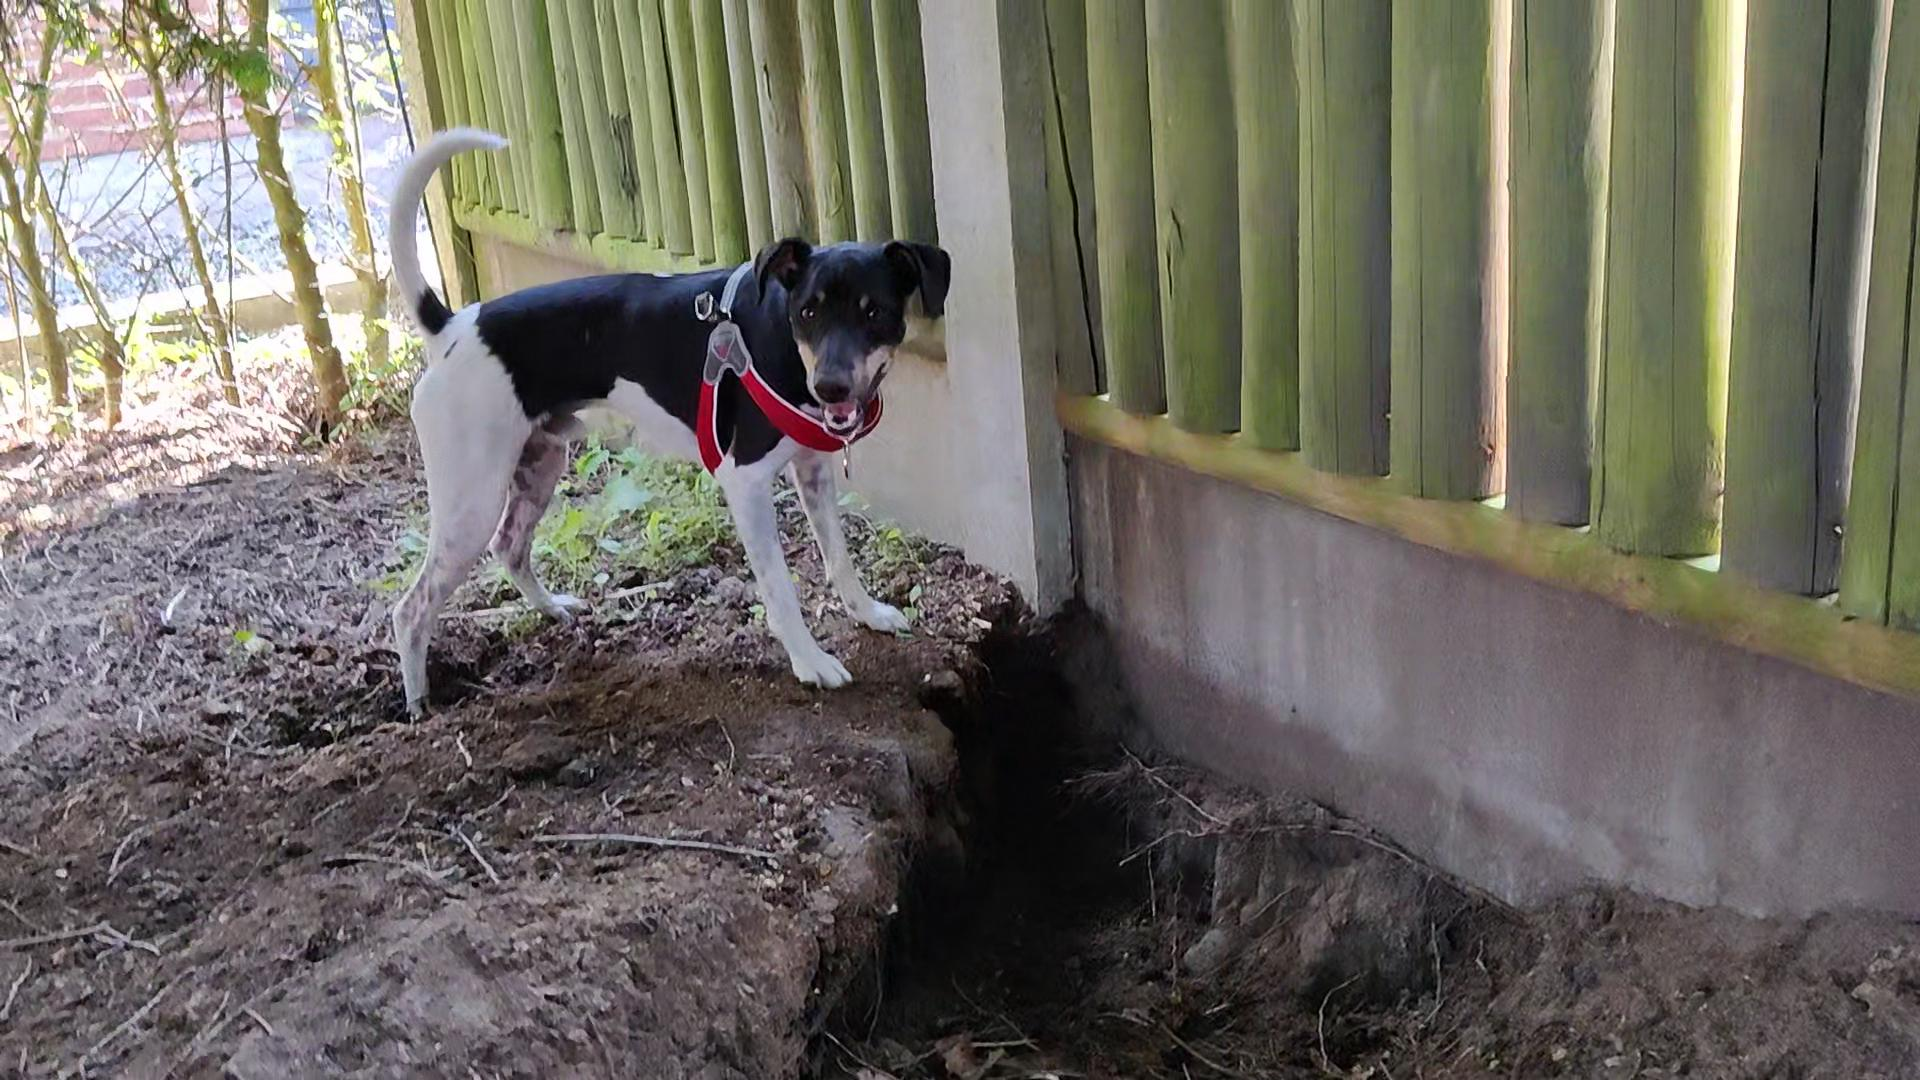Dog: (359, 116, 964, 717)
